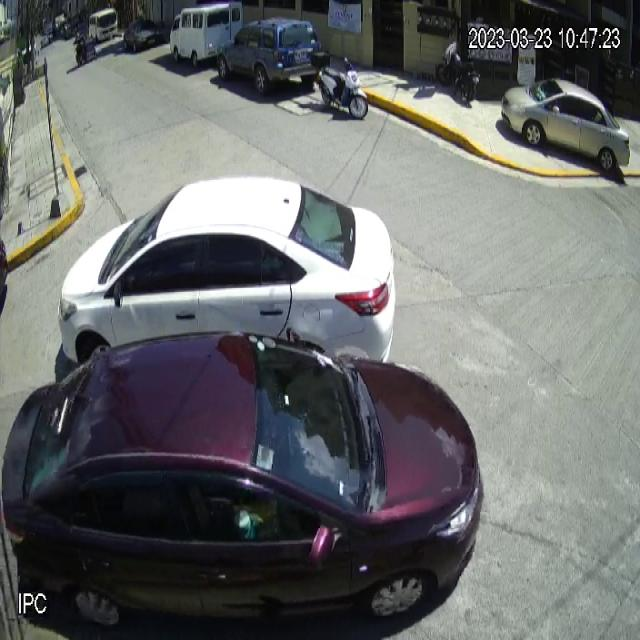Car: (0, 320, 487, 640), (56, 173, 397, 377), (501, 78, 630, 171), (216, 16, 323, 96)
Motorcycle: (309, 49, 369, 120)
Van: (169, 0, 242, 69)
